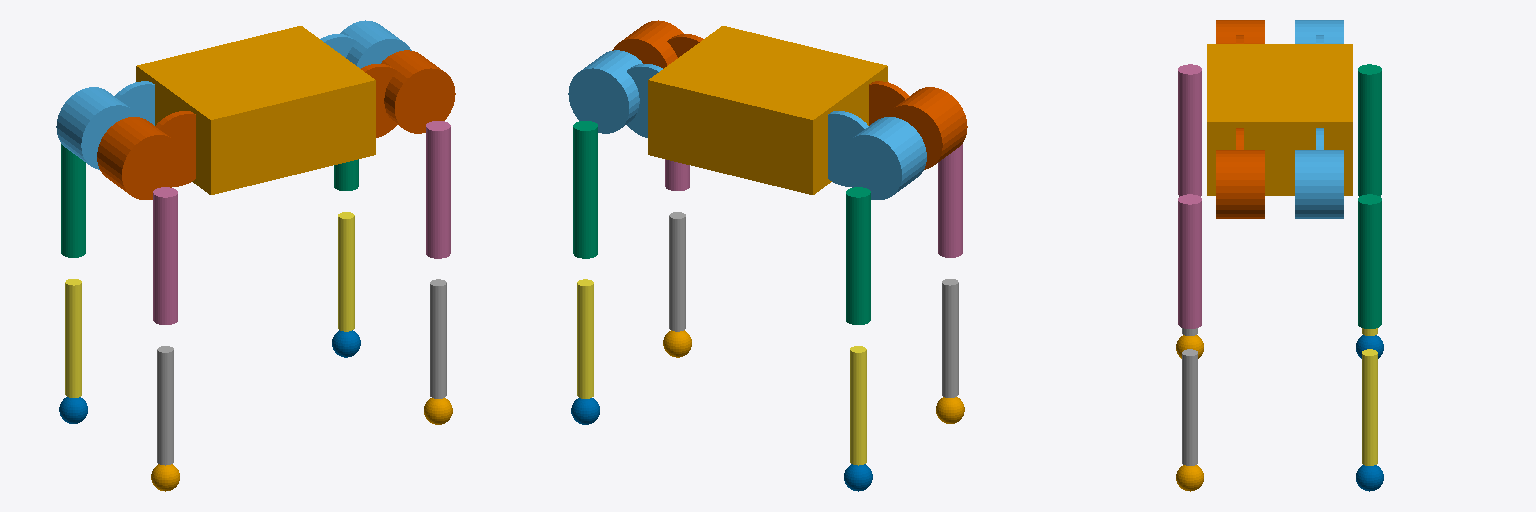
robot.urdf — mini_cheetah:
<?xml version="1.0" ?>
<robot name="mini_cheetah" xmlns:xacro="http://ros.org/wiki/xacro">



<!--!!!!!!!!!!!!!!!!!!BODY!!!!!!!!!!!!!!!!!!!!!!!!!!!!!!!-->
  <link name="body">
        <inertial>
            <mass value="3.3"/>
            <origin xyz="0.0 0.0 0.0"/>
            <inertia ixx="0.011253" ixy="0" ixz="0" iyy="0.036203" iyz="0" izz="0.042673"/>
        </inertial>
        <visual>
            <geometry>
              <!--mesh filename="meshes/mini_body.obj"/!!!-->
	        <box size="0.23 0.18 0.1"/>
            </geometry>
            <origin rpy="0.0 0.0 0.0" xyz="0.0 0.0 0.0"/>
        </visual>
        <collision>
            <geometry>
              <!--mesh filename="meshes/mini_body.obj"/-->
	      <box size="0.23 0.18 0.1"/>
            </geometry>
            <origin rpy="0 0 0" xyz="0 0 0"/>
        </collision>
    </link>



<!--!!!!!!!!!!!! Front Left Leg !!!!!!!!!!!!!!!!!!!!!!!!!!!!!!!!!!!!-->
    <joint name="torso_to_abduct_fl_j" type="continuous">
        <axis xyz="1 0 0"/>
        <origin rpy="0 0 0" xyz="0.19 0.049 0.0"/>
        <parent link="body"/>
        <child link="abduct_fl"/>
	<limit effort="18" lower="-1.6" upper="1.6" velocity="40"/>
    </joint>
    <link name="abduct_fl">
        <inertial>
            <mass value="0.54"/>
            <origin xyz="0.0 0.036 0."/>
            <inertia ixx="0.000381" ixy="0.000058" ixz="0.00000045" 
                iyy="0.000560" iyz="0.00000095" izz="0.000444"/>
        </inertial>
        <visual>
            <geometry>
              <!--mesh filename="meshes/mini_abad.obj"/-->
	      <cylinder length ="0.01" radius = "0.0475"/>
            </geometry>
            <origin rpy="0. 1.5708 -1.5708" xyz="-0.055 0.0 0.0"/>
        </visual>
	<visual>
            <geometry>
              <!--mesh filename="meshes/mini_abad.obj"/-->
	      <cylinder length ="0.06" radius = "0.0425"/>
            </geometry>
            <!--origin rpy="3.141592 0.0 1.5708" xyz="-0.055 0.0 0.0"/-->
	    <origin rpy="1.5708 0.0 0.0" xyz="0.0 0.0 0.0"/>
        </visual>
        <collision>
            <geometry>
              <!--mesh filename="meshes/mini_abad.obj"/-->
	      <cylinder length ="0.01" radius = "0.0475"/>
            </geometry>
            <!--origin rpy="0 0 -1.5708" xyz="-0.055 0 0"/-->
	    <origin rpy="0 1.5708 -1.5708" xyz="-0.055 0.0 0.0"/>
        </collision>
	<collision>
            <geometry>
              <!--mesh filename="meshes/mini_abad.obj"/-->
	      <cylinder length ="0.06" radius = "0.0425"/>
            </geometry>
            <!--origin rpy="0 0 -1.5708" xyz="-0.055 0 0"/-->
	    <origin rpy="1.5708 0.0 0.0" xyz="0.0 0.0 0.0"/>
        </collision>
    </link>

    <joint name="abduct_fl_to_thigh_fl_j" type="continuous">
        <axis xyz="0 -1 0"/>
        <origin rpy="0.0 0.0 0.0" xyz="0.0 0.062 0.00"/>
        <parent link="abduct_fl"/>
        <child link="thigh_fl"/>
	<limit effort="18" lower="-2.6" upper="2.6" velocity="40"/>
    </joint>
    <link name="thigh_fl">
        <inertial>
            <mass value="0.634"/>
            <origin xyz="0.0 0.016 -0.02"/>
            <inertia ixx="0.001983" ixy="0.000245" ixz="0.000013" 
                iyy="0.002103" iyz="0.0000015" izz="0.000508"/>
        </inertial>
        <visual>
            <geometry>
              <!--mesh filename="meshes/mini_upper_link.obj"/-->
	      <cylinder length ="0.17" radius = "0.015"/>
            </geometry>
            <origin rpy="0.0 0.0 0.0" xyz="0.0 0.0 -0.105"/>
        </visual>
        <collision>
            <geometry>
              <!--mesh filename="meshes/mini_upper_link.obj"/-->
	      <cylinder length ="0.17" radius = "0.015"/>
            </geometry>
            <origin rpy="0.0 0.0 0.0" xyz="0.0 0.0 -0.105"/>
        </collision>
    </link>

    <joint name="thigh_fl_to_knee_fl_j" type="continuous">
        <axis xyz="0 -1 0"/>
        <origin rpy="0.0 0 0.0" xyz="0.0 0.0 -0.209"/>
        <parent link="thigh_fl"/>
        <child link="shank_fl"/>
	<limit effort="26" lower="-2.6" upper="2.6" velocity="26"/>
    </joint>
    <link name="shank_fl">
        <inertial>
            <mass value="0.064"/>
            <origin xyz="0.0 0.0 -0.209"/>
            <inertia ixx="0.000245" ixy="0" ixz="0.0" iyy="0.000248" iyz="0" izz="0.000006"/>
        </inertial>
        <visual>
            <geometry>
              <!--mesh filename="meshes/mini_lower_link.obj"/-->
	      <cylinder length ="0.15" radius = "0.01"/>
            </geometry>
            <origin rpy="0.0 3.141592 0.0" xyz="0.0 0.0 -0.095"/>
        </visual>
        <collision>
            <geometry>
              <!--mesh filename="meshes/mini_lower_link.obj"/-->
	      <cylinder length ="0.15" radius = "0.01"/>
            </geometry>
            <origin rpy="0.0 3.141592 0.0" xyz="0 0 -0.095"/>
        </collision>
    </link>
    <!-- Adapter to Foot joint -->
    <joint name="fixed_shank_to_foot" type="fixed">
        <parent link="shank_fl"/>
        <child link="foot_fl"/>
        <origin rpy="0.0 0.0 0.0" xyz="0.0 0.0 -0.19"/>
    </joint>
    <link name="foot_fl">
	<visual>
            <geometry>
              <sphere radius = "0.0175"/>
            </geometry>
            <origin rpy="0.0 3.141592 0.0" xyz="0.0 0.0 0.0"/>
        </visual>
	<collision>
            <geometry>
              <!--mesh filename="meshes/mini_lower_link.obj"/-->
	      <sphere radius = "0.0175"/>
            </geometry>
            <origin rpy="0.0 3.141592 0.0" xyz="0 0 0"/>
        </collision>
    </link>
	


    
    <!--!!!!!!!!!!!! Front Right Leg !!!!!!!!!!!!!!!!!!!!!!!!!!!!!!!!!!!!-->

    <!--!!!!Joint!!!!!!!!!!!!-->
    <joint name="torso_to_abduct_fr_j" type="continuous">
        <axis xyz="1 0 0"/>
        <origin rpy="0 0 0" xyz="0.19 -0.049 0.0"/>
        <parent link="body"/>
        <child link="abduct_fr"/>
	<limit effort="18" lower="-1.6" upper="1.6" velocity="40"/>
    </joint>
    <link name="abduct_fr">
        <inertial>
            <mass value="0.54"/>
            <origin xyz="0.0 0.036 0."/>
            <inertia ixx="0.000381" ixy="0.000058" ixz="0.00000045" 
                iyy="0.000560" iyz="0.00000095" izz="0.000444"/>
        </inertial>
        <visual>
            <geometry>
              <!--mesh filename="meshes/mini_abad.obj"/-->
	      <cylinder length ="0.01" radius = "0.0475"/>
            </geometry>
            <!--origin rpy="3.141592 0.0 1.5708" xyz="-0.055 0.0 0.0"/-->
	    <origin rpy="3.141592 1.5708 1.5708" xyz="-0.055 0.0 0.0"/>
        </visual>
	<visual>
            <geometry>
              <!--mesh filename="meshes/mini_abad.obj"/-->
	      <cylinder length ="0.06" radius = "0.0425"/>
            </geometry>
            <!--origin rpy="3.141592 0.0 1.5708" xyz="-0.055 0.0 0.0"/-->
	    <origin rpy="1.5708 0.0 0.0" xyz="0.0 0.0 0.0"/>
        </visual>
        <collision>
            <geometry>
              <!--mesh filename="meshes/mini_abad.obj"/-->
	      <cylinder length ="0.01" radius = "0.0475"/>
            </geometry>
            <origin rpy="3.141592 1.5708 1.5708" xyz="-0.055 0 0"/>
        </collision>
	<collision>
            <geometry>
              <!--mesh filename="meshes/mini_abad.obj"/-->
	      <cylinder length ="0.06" radius = "0.0425"/>
            </geometry>
            <origin rpy="1.5708 0.0 0.0" xyz="-0.055 0 0"/>
        </collision>
    </link>

    <joint name="abduct_fr_to_thigh_fr_j" type="continuous">
        <axis xyz="0 -1 0"/>
        <origin rpy="0.0 0.0 0.0" xyz="0.0 -0.062 0.00"/>
        <parent link="abduct_fr"/>
        <child link="thigh_fr"/>
	<limit effort="18" lower="-2.6" upper="2.6" velocity="40"/>
    </joint>
    <link name="thigh_fr">
        <inertial>
            <mass value="0.634"/>
            <origin xyz="0.0 0.016 -0.02"/>
            <inertia ixx="0.001983" ixy="0.000245" ixz="0.000013" 
                iyy="0.002103" iyz="0.0000015" izz="0.000508"/>
        </inertial>
        <visual>
            <geometry>
              <!--mesh filename="meshes/mini_upper_link.obj"/-->
	      <cylinder length ="0.17" radius = "0.015"/>
            </geometry>
            <origin rpy="0.0 0.0 0.0" xyz="0.0 0.0 -0.105"/>
        </visual>
        <collision>
            <geometry>
              <!--mesh filename="meshes/mini_upper_link.obj"/-->
	      <cylinder length ="0.17" radius = "0.015"/>
            </geometry>
            <origin rpy="0.0 0.0 0.0" xyz="0.0 0.0 -0.105"/>
        </collision>
    </link>

    <joint name="thigh_fr_to_knee_fr_j" type="continuous">
        <axis xyz="0 -1 0"/>
        <origin rpy="0.0 0 0.0" xyz="0.0 0.0 -0.209"/>
        <parent link="thigh_fr"/>
        <child link="shank_fr"/>
	<limit effort="26" lower="-2.6" upper="2.6" velocity="26"/>
    </joint>
    <link name="shank_fr">
        <inertial>
            <mass value="0.064"/>
            <origin xyz="0.0 0.0 -0.209"/>
            <inertia ixx="0.000245" ixy="0" ixz="0.0" iyy="0.000248" iyz="0" izz="0.000006"/>
        </inertial>
        <visual>
            <geometry>
              <!--mesh filename="meshes/mini_lower_link.obj"/-->
	      <cylinder length ="0.15" radius = "0.01"/>
            </geometry>
            <origin rpy="0.0 3.141592 0.0" xyz="0.0 0.0 -0.095"/>
        </visual>
        <collision>
            <geometry>
              <!--mesh filename="meshes/mini_lower_link.obj"/-->
	      <cylinder length ="0.15" radius = "0.01"/>
            </geometry>
            <origin rpy="0.0 3.141592 0.0" xyz="0.0 0.0 -0.095"/>
        </collision>
    </link>

    <!-- Adapter to Foot joint -->
    <joint name="fixed_shank_to_foot_fr" type="fixed">
        <parent link="shank_fr"/>
        <child link="foot_fr"/>
        <origin rpy="0.0 0.0 0.0" xyz="0.0 0.0 -0.19"/>
    </joint>

    <link name="foot_fr">
	<visual>
            <geometry>
              <sphere radius = "0.0175"/>
            </geometry>
            <origin rpy="0.0 3.141592 0.0" xyz="0.0 0.0 0.0"/>
        </visual>
	<collision>
            <geometry>
              <!--mesh filename="meshes/mini_lower_link.obj"/-->
	       <sphere radius = "0.0175"/>
            </geometry>
            <origin rpy="0.0 3.141592 0" xyz="0.0 0.0 0"/>
        </collision>
    </link>
	



<!--!!!!!!!!!!!! Hind Left Leg !!!!!!!!!!!!!!!!!!!!!!!!!!!!!!!!!!!!-->
    <joint name="torso_to_abduct_hl_j" type="continuous">
        <axis xyz="1 0 0"/>
        <origin rpy="0 0 0" xyz="-0.19 0.049 0.0"/>
        <parent link="body"/>
        <child link="abduct_hl"/>
	<limit effort="18" lower="-1.6" upper="1.6" velocity="40"/>
    </joint>
    <link name="abduct_hl">
        <inertial>
            <mass value="0.54"/>
            <origin xyz="0.0 0.036 0."/>
            <inertia ixx="0.000381" ixy="0.000058" ixz="0.00000045" 
                iyy="0.000560" iyz="0.00000095" izz="0.000444"/>
        </inertial>
        <visual>
            <geometry>
              <!--mesh filename="meshes/mini_abad.obj"/-->
	      <cylinder length ="0.01" radius = "0.0475"/>
            </geometry>
            <!--origin rpy="3.141592 0.0 -1.5708" xyz="0.055 0.0 0.0"/-->
	    <origin rpy="3.141592 1.5708 -1.5708" xyz="0.055 0.0 0.0"/>
        </visual>
	<visual>
            <geometry>
              <!--mesh filename="meshes/mini_abad.obj"/-->
	      <cylinder length ="0.06" radius = "0.0425"/>
            </geometry>
            <!--origin rpy="3.141592 0.0 1.5708" xyz="-0.055 0.0 0.0"/-->
	    <origin rpy="1.5708 0.0 0.0" xyz="0.0 0.0 0.0"/>
        </visual>
        <collision>
            <geometry>
              <!--mesh filename="meshes/mini_abad.obj"/-->
	      <cylinder length ="0.01" radius = "0.0475"/>
            </geometry>
            <origin rpy="3.141592 1.5708 -1.5708" xyz="0.055 0 0"/>
        </collision>
	<collision>
            <geometry>
              <!--mesh filename="meshes/mini_abad.obj"/-->
	      <cylinder length ="0.06" radius = "0.0425"/>
            </geometry>
            <origin rpy="1.5708 0.0 0.0" xyz="0.0 0.0 0.0"/>
        </collision>
    </link>

    <joint name="abduct_hl_to_thigh_hl_j" type="continuous">
        <axis xyz="0 -1 0"/>
        <origin rpy="0.0 0.0 0.0" xyz="0.0 0.062 0.00"/>
        <parent link="abduct_hl"/>
        <child link="thigh_hl"/>
	<limit effort="18" lower="-2.6" upper="2.6" velocity="40"/>
    </joint>
    <link name="thigh_hl">
        <inertial>
            <mass value="0.634"/>
            <origin xyz="0.0 0.016 -0.02"/>
            <inertia ixx="0.001983" ixy="0.000245" ixz="0.000013" 
                iyy="0.002103" iyz="0.0000015" izz="0.000508"/>
        </inertial>
        <visual>
            <geometry>
              <!--mesh filename="meshes/mini_upper_link.obj"/-->
	      <cylinder length ="0.17" radius = "0.015"/>
            </geometry>
            <origin rpy="0.0 0.0 0.0" xyz="0.0 0.0 -0.105"/>
        </visual>
        <collision>
            <geometry>
              <!--mesh filename="meshes/mini_upper_link.obj"/-->
	      <cylinder length ="0.17" radius = "0.015"/>
            </geometry>
            <origin rpy="0.0 0.0 0.0" xyz="0.0 0.0 -0.105"/>
        </collision>
    </link>

    <joint name="thigh_hl_to_knee_hl_j" type="continuous">
        <axis xyz="0 -1 0"/>
        <origin rpy="0.0 0 0.0" xyz="0.0 0.0 -0.209"/>
        <parent link="thigh_hl"/>
        <child link="shank_hl"/>
	<limit effort="26" lower="-2.6" upper="2.6" velocity="26"/>
    </joint>
    <link name="shank_hl">
        <inertial>
            <mass value="0.064"/>
            <origin xyz="0.0 0.0 -0.209"/>
            <inertia ixx="0.000245" ixy="0" ixz="0.0" iyy="0.000248" iyz="0" izz="0.000006"/>
        </inertial>
        <visual>
            <geometry>
              <!--mesh filename="meshes/mini_lower_link.obj"/-->
	      <cylinder length ="0.15" radius = "0.01"/>
            </geometry>
            <origin rpy="0.0 3.141592 0.0" xyz="0.0 0.0 -0.095"/>
        </visual>
        <collision>
            <geometry>
              <!--mesh filename="meshes/mini_lower_link.obj"/-->
	      <cylinder length ="0.15" radius = "0.01"/>
            </geometry>
            <origin rpy="0.0 3.141592 0.0" xyz="0.0 0.0 -0.095"/>
        </collision>
    </link>

    <!-- Adapter to Foot joint -->
    <joint name="fixed_shank_to_foot_hl" type="fixed">
        <parent link="shank_hl"/>
        <child link="foot_hl"/>
        <origin rpy="0.0 0.0 0.0" xyz="0.0 0.0 -0.19"/>
    </joint>

    <link name="foot_hl">
	<visual>
            <geometry>
              <sphere radius = "0.0175"/>
            </geometry>
            <origin rpy="0.0 3.141592 0.0" xyz="0.0 0.0 0.0"/>
        </visual>
	<collision>
            <geometry>
              <!--mesh filename="meshes/mini_lower_link.obj"/-->
	       <sphere radius = "0.0175"/>
            </geometry>
            <origin rpy="0.0 3.141592 0" xyz="0.0 0.0 0"/>
        </collision>
    </link>

    
<!--!!!!!!!!!!!! Hind Right Leg !!!!!!!!!!!!!!!!!!!!!!!!!!!!!!!!!!!!-->
    <joint name="torso_to_abduct_hr_j" type="continuous">
        <axis xyz="1 0 0"/>
        <origin rpy="0 0 0" xyz="-0.19 -0.049 0.0"/>
        <parent link="body"/>
        <child link="abduct_hr"/>
	<limit effort="18" lower="-1.6" upper="1.6" velocity="40"/>
    </joint>
    <link name="abduct_hr">
        <inertial>
            <mass value="0.54"/>
            <origin xyz="0.0 0.036 0."/>
            <inertia ixx="0.000381" ixy="0.000058" ixz="0.00000045" 
                iyy="0.000560" iyz="0.00000095" izz="0.000444"/>
        </inertial>
        <visual>
            <geometry>
              <!--mesh filename="meshes/mini_abad.obj"/-->
	      <cylinder length ="0.01" radius = "0.0475"/>
            </geometry>
            <!--origin rpy="0.0 0.0 1.5708" xyz="0.055 0.0 0.0"/-->
	    <origin rpy="0.0 1.5708 1.5708" xyz="0.055 0.0 0.0"/>
        </visual>
	<visual>
            <geometry>
              <!--mesh filename="meshes/mini_abad.obj"/-->
	      <cylinder length ="0.06" radius = "0.0425"/>
            </geometry>
            <!--origin rpy="3.141592 0.0 1.5708" xyz="-0.055 0.0 0.0"/-->
	    <origin rpy="1.5708 0.0 0.0" xyz="0.0 0.0 0.0"/>
        </visual>
        <collision>
            <geometry>
              <!--mesh filename="meshes/mini_abad.obj"/-->
	      <cylinder length ="0.01" radius = "0.0475"/>
            </geometry>
            <origin rpy="0.0 1.5708 1.5708" xyz="0.055 0.0 0.0"/>
        </collision>
	<collision>
            <geometry>
              <!--mesh filename="meshes/mini_abad.obj"/-->
	      <cylinder length ="0.06" radius = "0.0425"/>
            </geometry>
            <origin rpy="1.5708 0.0 0.0" xyz="0.0 0.0 0.0"/>
        </collision>
    </link>

    <joint name="abduct_hr_to_thigh_hr_j" type="continuous">
        <axis xyz="0 -1 0"/>
        <origin rpy="0.0 0.0 0.0" xyz="0.0 -0.062 0.00"/>
        <parent link="abduct_hr"/>
        <child link="thigh_hr"/>
	<limit effort="18" lower="-2.6" upper="2.6" velocity="40"/>
    </joint>
    <link name="thigh_hr">
        <inertial>
            <mass value="0.634"/>
            <origin xyz="0.0 0.016 -0.02"/>
            <inertia ixx="0.001983" ixy="0.000245" ixz="0.000013" 
                iyy="0.002103" iyz="0.0000015" izz="0.000508"/>
        </inertial>
        <visual>
            <geometry>
              <!--mesh filename="meshes/mini_upper_link.obj"/-->
	      <cylinder length ="0.17" radius = "0.015"/>
            </geometry>
            <origin rpy="0.0 0.0 0.0" xyz="0.0 0.0 -0.105"/>
        </visual>
        <collision>
            <geometry>
              <!--mesh filename="meshes/mini_upper_link.obj"/-->
	      <cylinder length ="0.17" radius = "0.015"/>
            </geometry>
            <origin rpy="0.0 0.0 0.0" xyz="0.0 0.0 -0.105"/>
        </collision>
    </link>

    <joint name="thigh_hr_to_knee_hr_j" type="continuous">
        <axis xyz="0 -1 0"/>
        <origin rpy="0.0 0 0.0" xyz="0.0 0.0 -0.209"/>
        <parent link="thigh_hr"/>
        <child link="shank_hr"/>
	<limit effort="26" lower="-2.6" upper="2.6" velocity="26"/>
    </joint>
    <link name="shank_hr">
        <inertial>
            <mass value="0.064"/>
            <origin xyz="0.0 0.0 -0.209"/>
            <inertia ixx="0.000245" ixy="0" ixz="0.0" iyy="0.000248" iyz="0" izz="0.000006"/>
        </inertial>
        <visual>
            <geometry>
              <!--mesh filename="meshes/mini_lower_link.obj"/-->
	      <cylinder length ="0.15" radius = "0.01"/>
            </geometry>
            <origin rpy="0.0 3.141592 0.0" xyz="0.0 0.0 -0.095"/>
        </visual>
        <collision>
            <geometry>
              <!--mesh filename="meshes/mini_lower_link.obj"/-->
	      <cylinder length ="0.15" radius = "0.01"/>
            </geometry>
            <origin rpy="0.0 3.141592 0.0" xyz="0 0 -0.095"/>
        </collision>

    </link>

    <!-- Adapter to Foot joint -->
    <joint name="fixed_shank_to_foot_hr" type="fixed">
        <parent link="shank_hr"/>
        <child link="foot_hr"/>
        <origin rpy="0.0 0.0 0.0" xyz="0.0 0.0 -0.19"/>
    </joint>

    <link name="foot_hr">
	<visual>
            <geometry>
              <sphere radius = "0.0175"/>
            </geometry>
            <origin rpy="0.0 3.141592 0.0" xyz="0.0 0.0 0.0"/>
        </visual>
	<collision>
            <geometry>
              <!--mesh filename="meshes/mini_lower_link.obj"/-->
	       <sphere radius = "0.0175"/>
            </geometry>
            <origin rpy="0.0 3.141592 0" xyz="0.0 0.0 0"/>
        </collision>
    </link>

</robot>

--- What the picture shows (computed from the rendered views, not written in the file) ---
3 views of the same robot in one strip: view 1: azimuth 30°, elevation 25°; view 2: azimuth 150°, elevation 25°; view 3: azimuth 270°, elevation 25° (orthographic).
Robot: mini_cheetah — 17 links, 16 joints (12 continuous, 4 fixed); root link body; default pose: every joint at zero.
Links seen in each view (by area): view 1: body, abduct_hr, abduct_fr, abduct_hl, thigh_hr, thigh_fr, thigh_hl, abduct_fl, shank_fr, shank_fl, shank_hr, shank_hl (+5 smaller); view 2: body, abduct_hl, abduct_fl, abduct_hr, thigh_hl, thigh_fl, thigh_hr, abduct_fr, shank_fl, shank_fr, shank_hl, shank_hr (+5 smaller); view 3: body, abduct_fl, abduct_fr, thigh_fl, thigh_fr, thigh_hl, thigh_hr, shank_fl, shank_fr, abduct_hl, abduct_hr, foot_fl (+1 smaller).
Link boxes in pixels (bbox=[...]): body: bbox=[136, 26, 375, 194]; abduct_hr: bbox=[97, 111, 195, 199]; abduct_fr: bbox=[361, 50, 455, 137]; abduct_hl: bbox=[56, 81, 154, 169]; thigh_hr: bbox=[153, 187, 177, 324]; thigh_fr: bbox=[426, 121, 450, 258]; thigh_hl: bbox=[61, 144, 85, 257]; abduct_fl: bbox=[320, 20, 411, 68]; shank_fr: bbox=[430, 279, 446, 398]; shank_fl: bbox=[338, 212, 354, 331]; shank_hr: bbox=[157, 346, 173, 465]; shank_hl: bbox=[65, 279, 81, 397]; body: bbox=[648, 26, 887, 194]; abduct_hl: bbox=[828, 111, 926, 199]; abduct_fl: bbox=[568, 50, 662, 137]; abduct_hr: bbox=[869, 81, 967, 169]; thigh_hl: bbox=[846, 187, 870, 324]; thigh_fl: bbox=[573, 121, 597, 258]; thigh_hr: bbox=[938, 144, 962, 257]; abduct_fr: bbox=[612, 20, 703, 68]; shank_fl: bbox=[577, 279, 593, 398]; shank_fr: bbox=[669, 212, 685, 331]; shank_hl: bbox=[850, 346, 866, 465]; shank_hr: bbox=[942, 279, 958, 397]; body: bbox=[1207, 44, 1352, 195]; abduct_fl: bbox=[1295, 128, 1343, 218]; abduct_fr: bbox=[1216, 128, 1264, 218]; thigh_fl: bbox=[1358, 194, 1381, 328]; thigh_fr: bbox=[1178, 194, 1201, 328]; thigh_hl: bbox=[1358, 64, 1381, 196]; thigh_hr: bbox=[1178, 64, 1201, 196]; shank_fl: bbox=[1362, 349, 1377, 465]; shank_fr: bbox=[1182, 349, 1197, 465]; abduct_hl: bbox=[1295, 20, 1343, 43]; abduct_hr: bbox=[1216, 20, 1264, 43]; foot_fl: bbox=[1356, 465, 1383, 491].
Bounding box of the posed robot: 0.465 × 0.257 × 0.4665 m (x, y, z).
Geometry: primitives only (box / cylinder / sphere), no mesh files.
